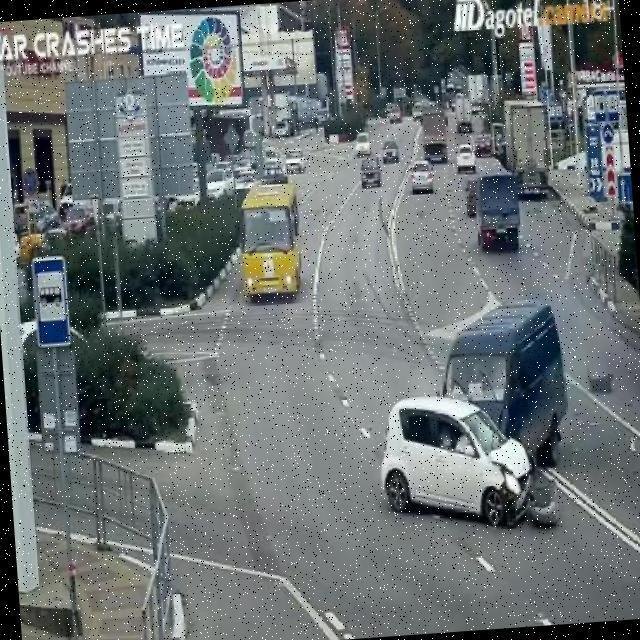accident: (358, 291, 579, 549)
